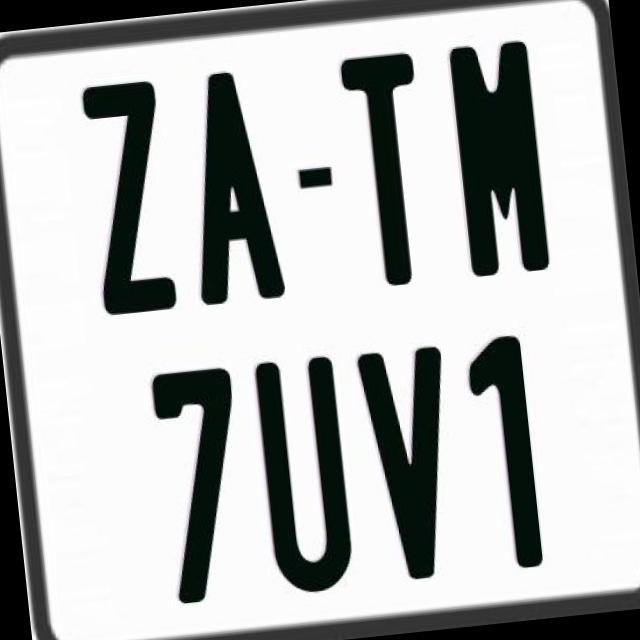1: (461, 335, 542, 581)
7: (147, 365, 250, 609)
A: (174, 65, 290, 308)
M: (448, 40, 552, 286)
T: (336, 46, 441, 290)
U: (253, 354, 360, 601)
V: (354, 346, 466, 586)
Z: (76, 80, 174, 325)
